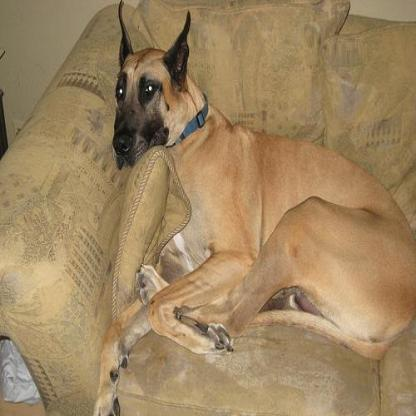Great_Dane: (89, 0, 414, 414)
